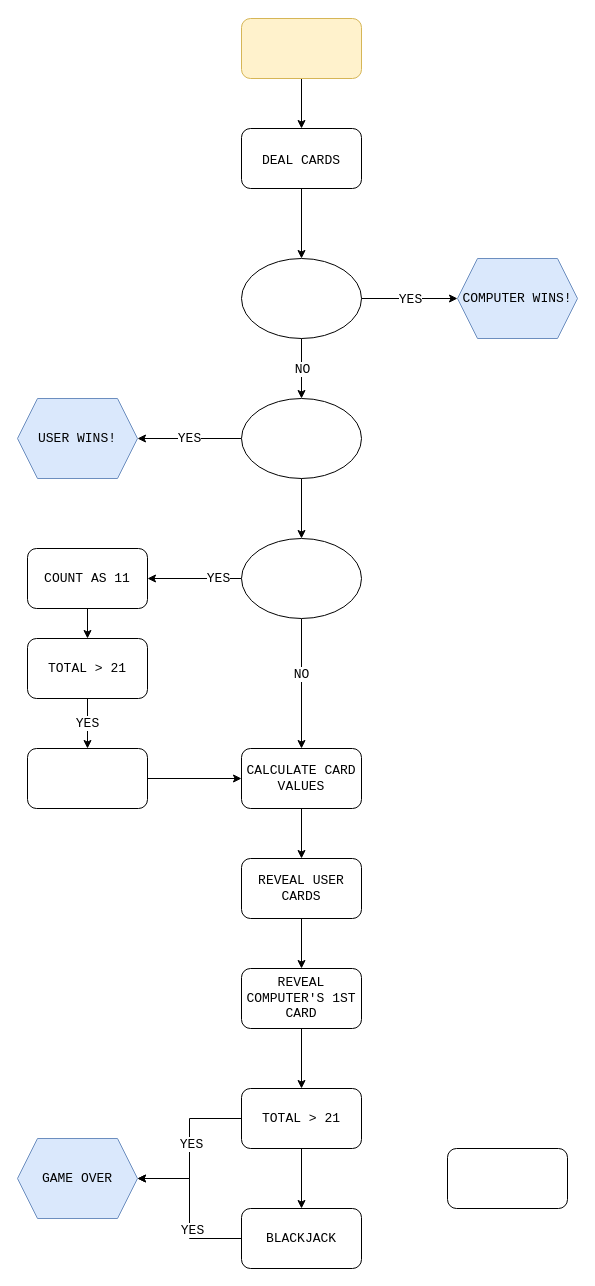
Image size: 595x1286. Some labels were removed from this diagram. Each missing label, with the box of its shape:
ACE INCLUDED: (240, 538, 362, 618)
ASK TO PASS OR: (446, 1148, 568, 1208)
CHANGE ACE COUNT AS 1: (26, 748, 148, 808)
CHECK COMPUTER CARDS FOR BLACKJACK: (240, 258, 362, 338)
CHECK FOR USER BLACKJACK: (240, 398, 362, 478)
START: (240, 18, 362, 78)
